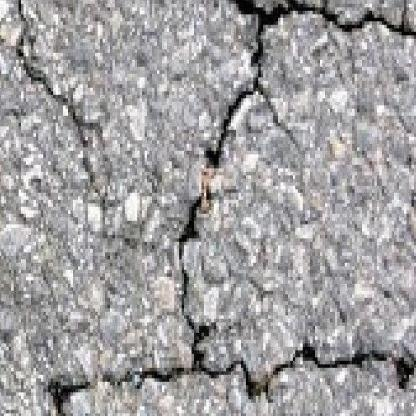Cracks: (101, 193, 416, 408), (202, 0, 416, 175), (11, 0, 109, 153), (22, 375, 95, 416)
